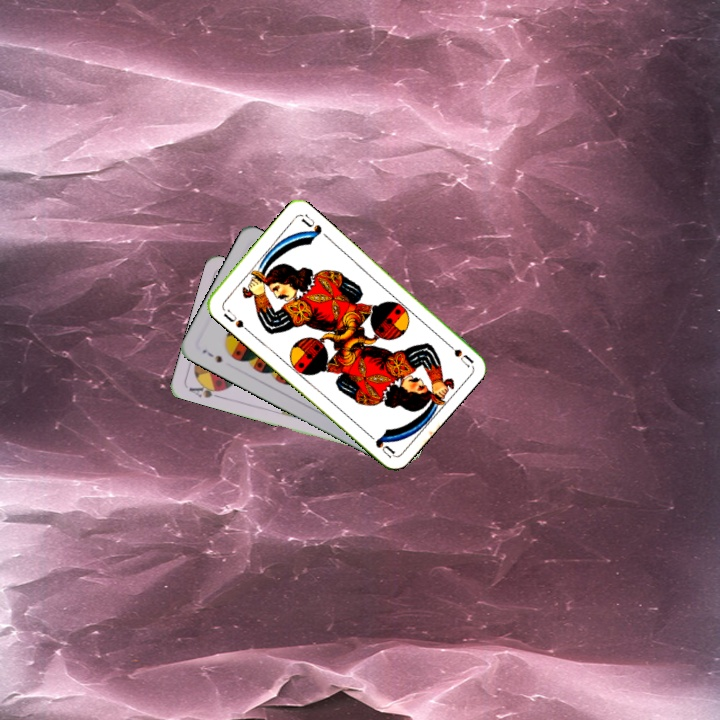S7: (198, 345, 225, 366)
SA: (185, 378, 226, 401)
SU: (440, 336, 475, 369), (220, 305, 251, 334)
